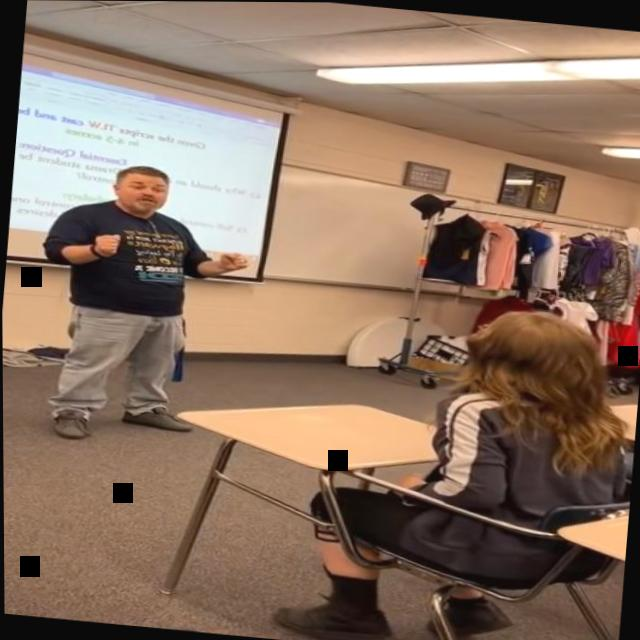NO-Mask: (108, 169, 167, 221)
